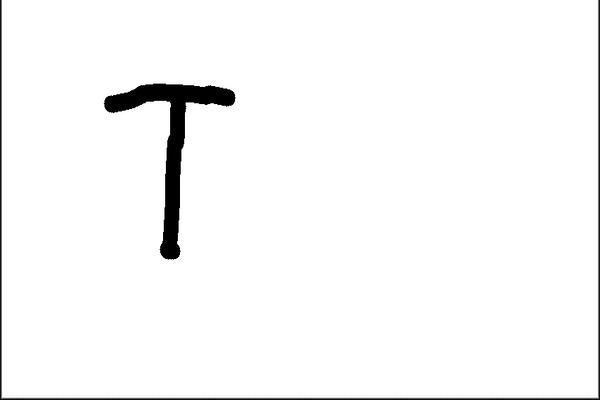T: (90, 79, 254, 262)
